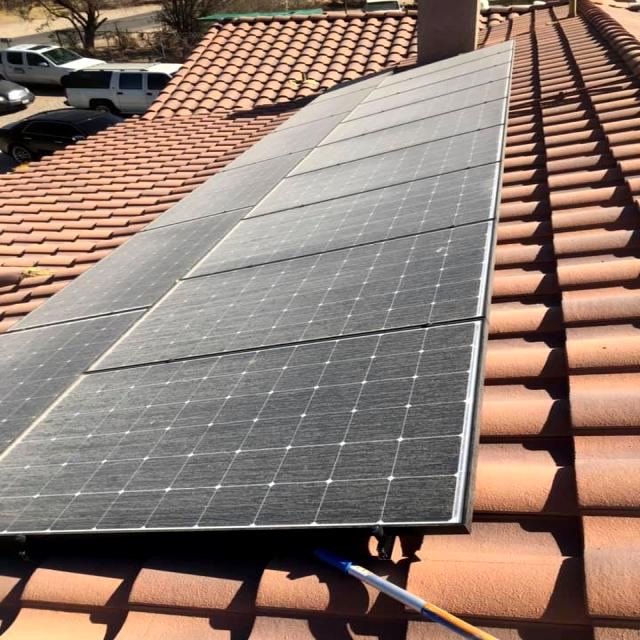dust: (255, 317, 485, 517), (4, 347, 242, 520), (327, 60, 500, 202), (160, 197, 300, 327), (353, 198, 489, 314), (238, 127, 308, 190)
